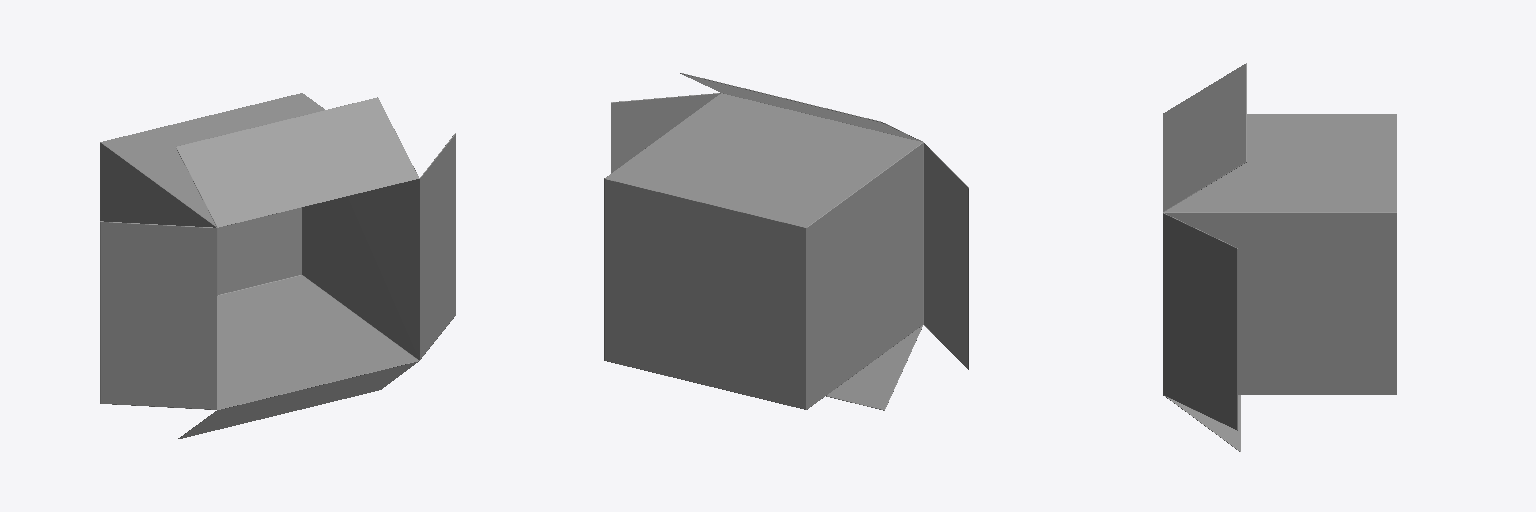
File: open_box.obj
3 views of the same model, side by side, from view 1: azimuth 30°, elevation 25°; view 2: azimuth 150°, elevation 25°; view 3: azimuth 270°, elevation 25° (orthographic).
Parts seen in each view (by area): view 1: Cube.021_Cube.029; view 2: Cube.021_Cube.029; view 3: Cube.021_Cube.029.
Part boxes in pixels (bbox=[...]): Cube.021_Cube.029: bbox=[100, 93, 455, 438]; Cube.021_Cube.029: bbox=[604, 73, 968, 410]; Cube.021_Cube.029: bbox=[1163, 63, 1396, 451].
Bounding box in the file's own units: 0.8281 × 0.6442 × 0.4713.